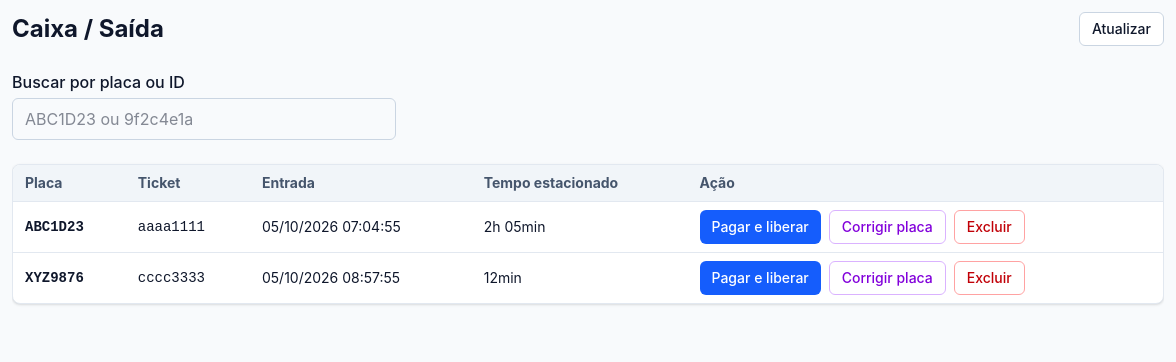
Scenario: PaymentPage › sucesso exibe o recibo com o valor vindo da API e remove a linha
The width and height of the screenshot is (1176, 362).
Expected: the table is shown, [13,165,1163,303]
Click the button "Pagar e liberar" in the row of "ABC1D23": (760, 227) [700,210,821,244]
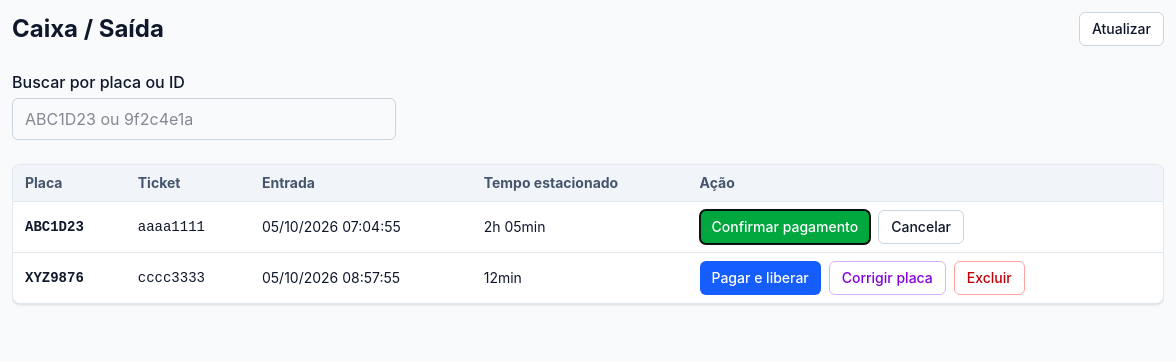
Click the button "Confirmar pagamento": (785, 227) [700,210,870,244]
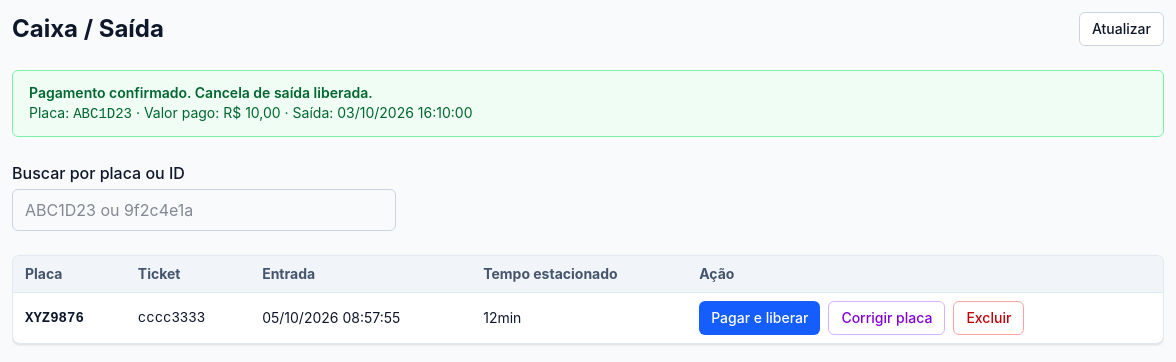
Expected: the message shows "Cancela de saída liberada", [29,84,373,101]
Expected: the message shows "ABC1D23", [73,106,132,122]
